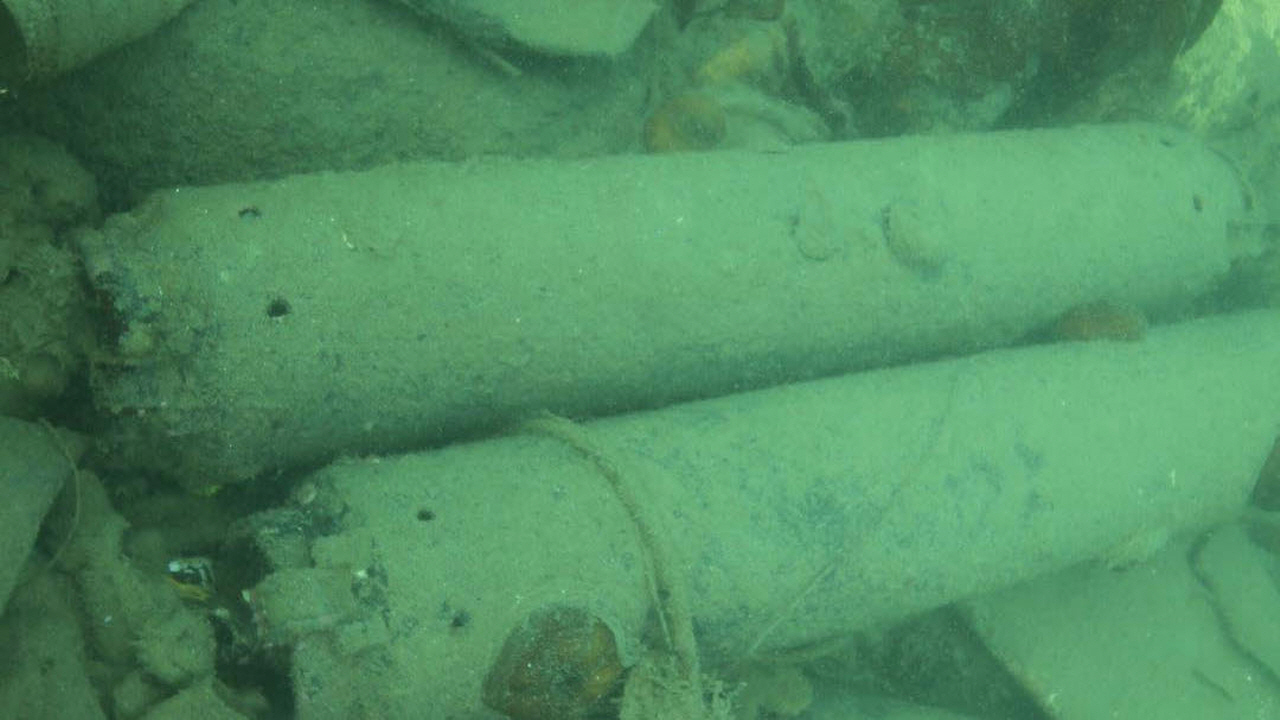eel fish trap: (66, 120, 1275, 494), (212, 304, 1280, 720)
rope: (515, 407, 705, 720)
